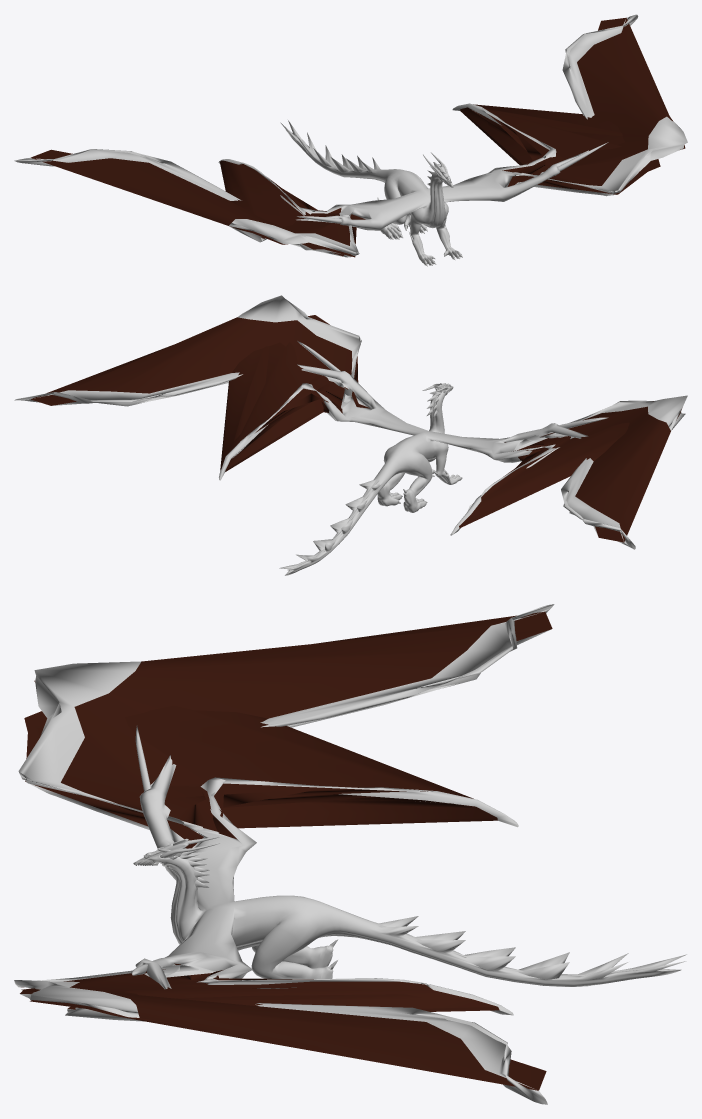
File: dragon.obj
3 renders of one model, top to bottom at view 1: azimuth 30°, elevation 25°; view 2: azimuth 150°, elevation 25°; view 3: azimuth 270°, elevation 25°, orthographic. The views are drawn at different scales.
Parts seen in each view (by area): view 1: Cube_Cube.004; view 2: Cube_Cube.004; view 3: Cube_Cube.004.
Part boxes in pixels (<box>): Cube_Cube.004: <box>14,14,687,266</box>; Cube_Cube.004: <box>14,295,687,575</box>; Cube_Cube.004: <box>14,604,686,1104</box>.
Bounding box in the file's own units: 11.93 × 1.86 × 6.87.
